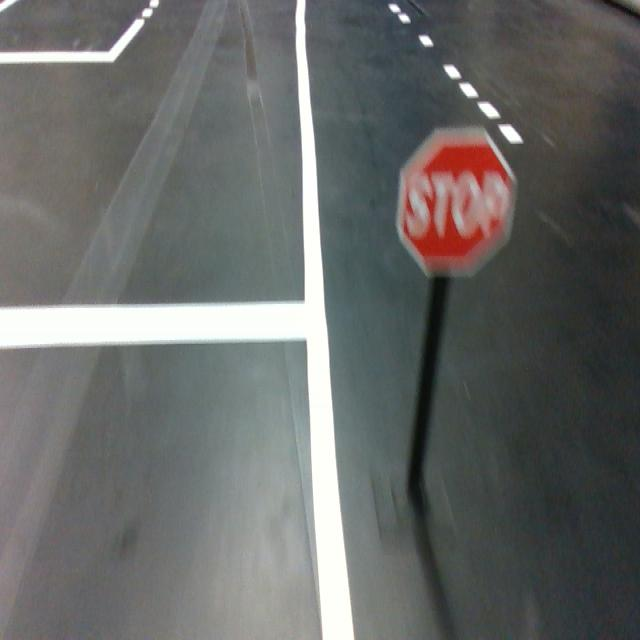stop-sign: (394, 126, 518, 278)
